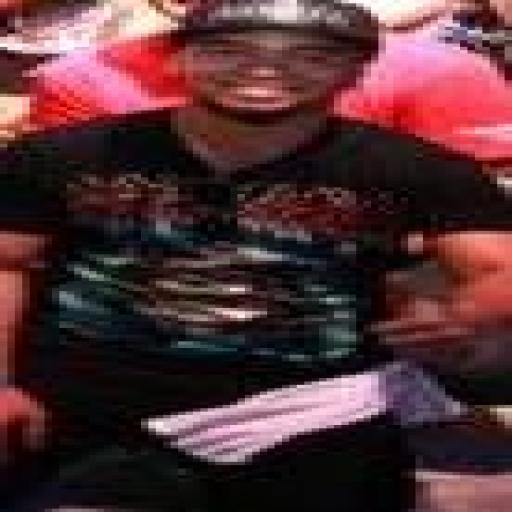person: (0, 0, 511, 511), (334, 34, 511, 163)
